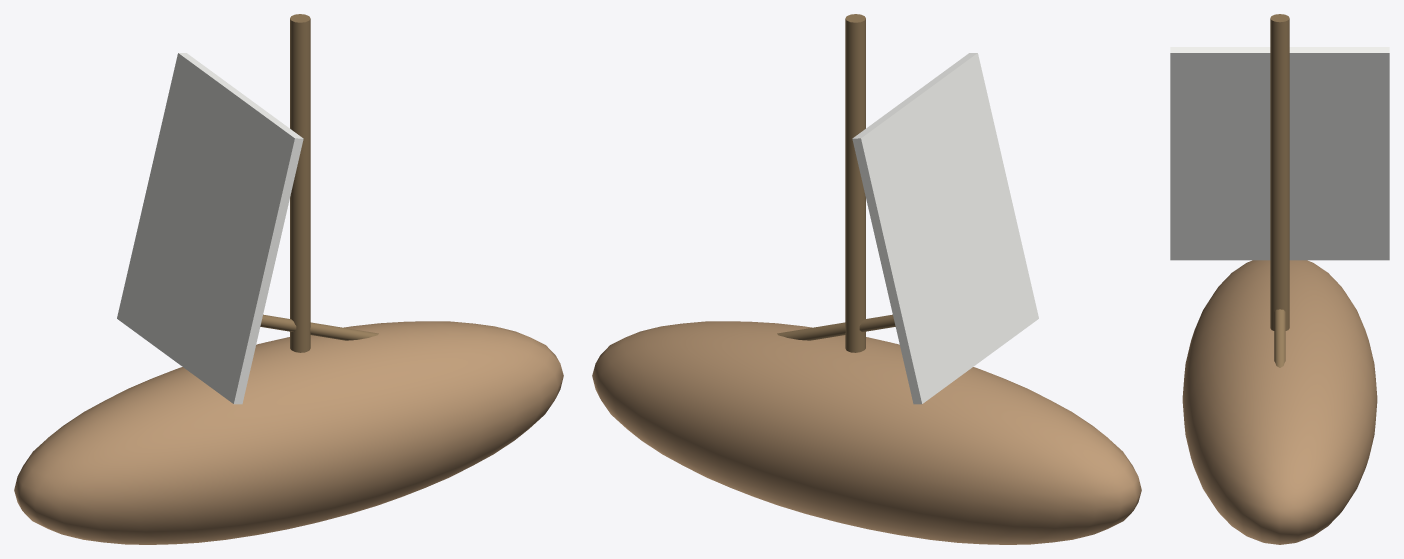
File: dhow.glb
3 views of the same model, side by side, from view 1: azimuth 30°, elevation 25°; view 2: azimuth 150°, elevation 25°; view 3: azimuth 270°, elevation 25° (orthographic). The views are drawn at different scales.
Bounding box in the file's own units: 2.4 × 2.1 × 0.9.
